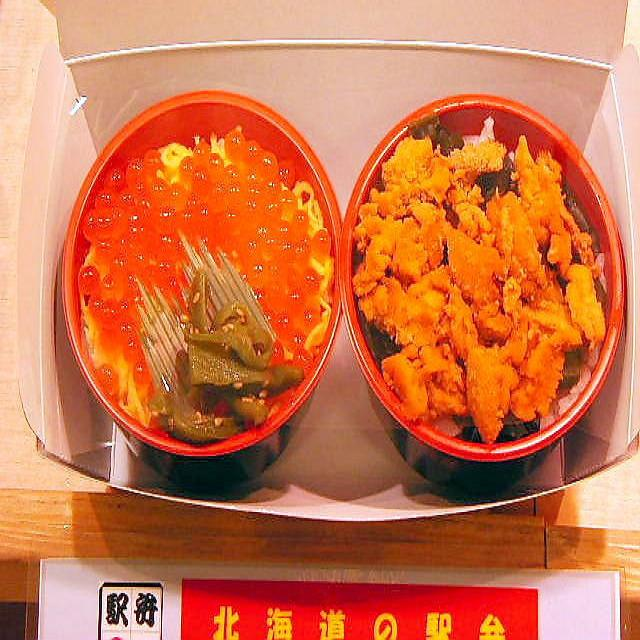刺身生食: (346, 74, 622, 484)
